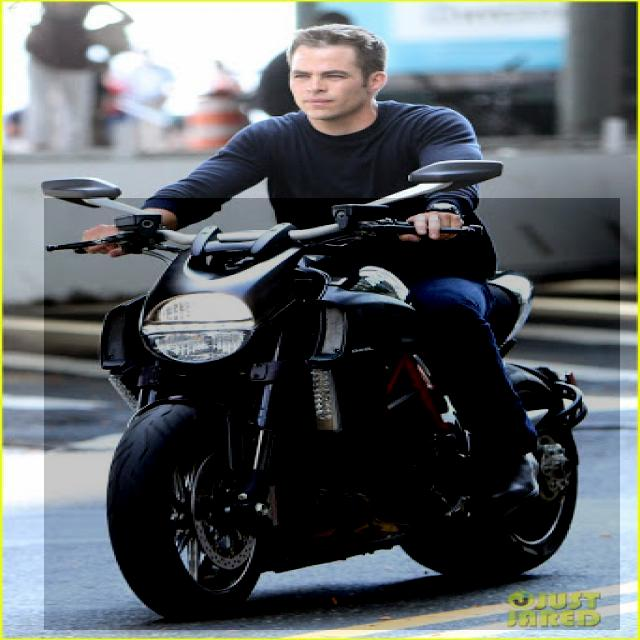Bike: (44, 198, 620, 630)
